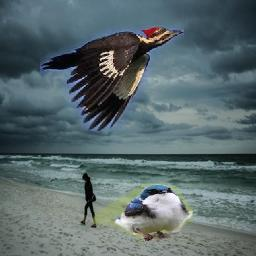Swallow: (93, 183, 193, 241)
Woodpecker: (40, 25, 184, 131)
